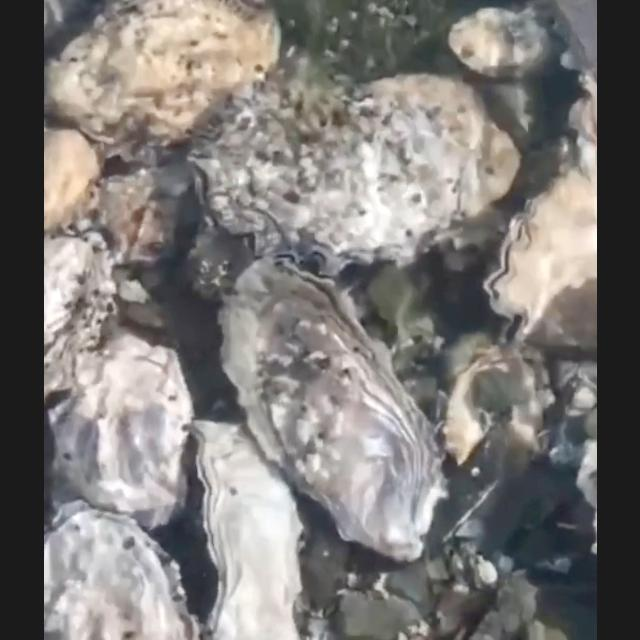Oyster-Closed: (43, 0, 284, 168), (46, 340, 190, 534), (183, 424, 301, 640), (42, 508, 192, 640), (43, 233, 117, 405), (448, 12, 554, 88), (43, 127, 101, 235)
Oyster-Open: (188, 78, 524, 288), (216, 258, 446, 562), (484, 168, 596, 350)
